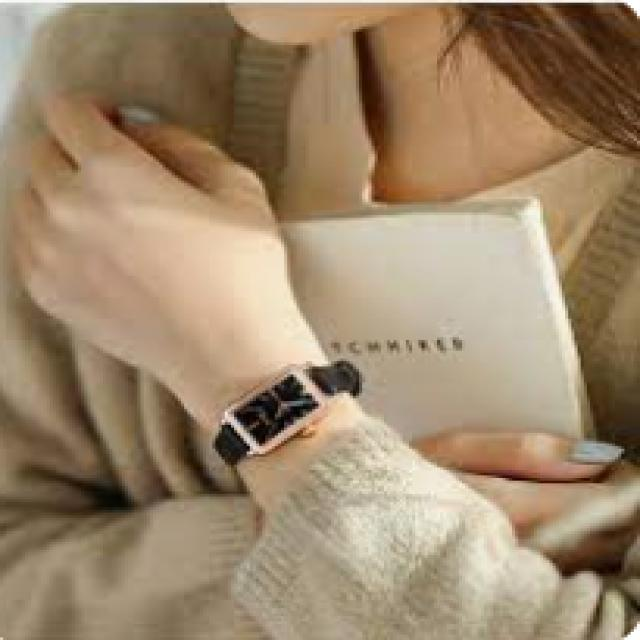Watch: (210, 356, 364, 474)
